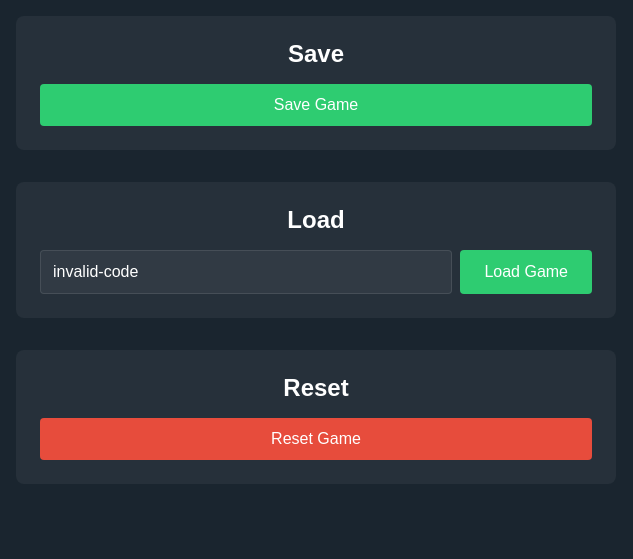
Test: SaveLoadView › Load Game › should show error for invalid save code
Click the button with class "load-button".
click(526, 272)  # box [460,250,592,294]
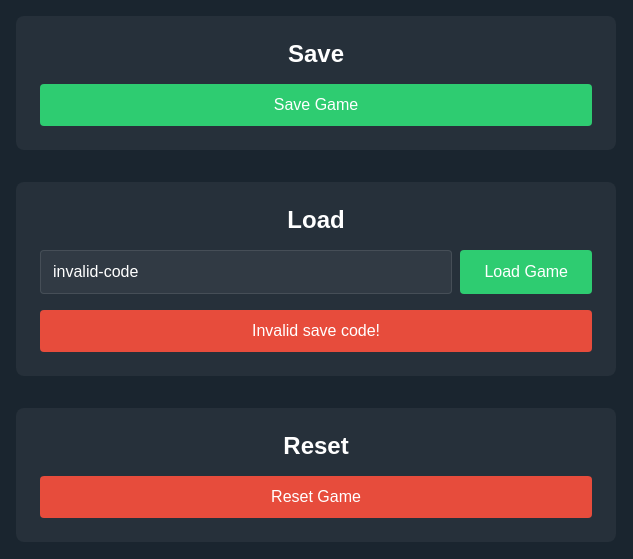
expect the text with class "message" reads "Invalid save code!": met, box [252,322,380,339]
